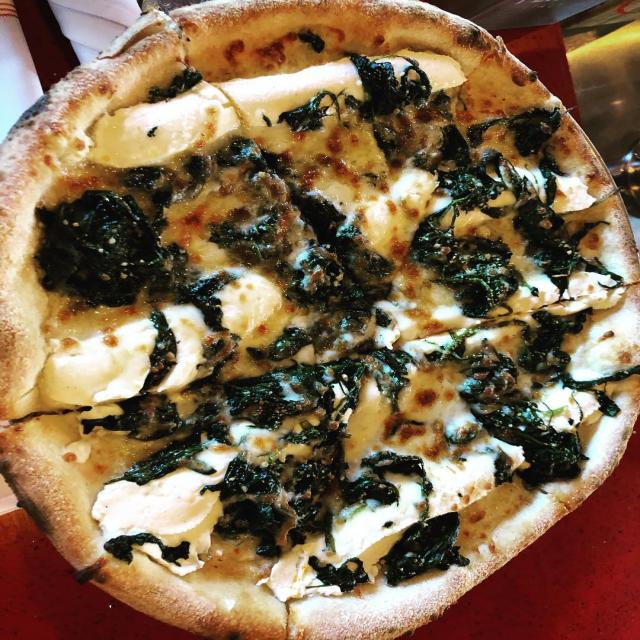basil: (31, 188, 236, 332), (452, 351, 588, 494), (279, 177, 396, 326), (210, 450, 339, 560), (513, 307, 638, 412), (414, 213, 533, 320), (415, 117, 532, 208), (222, 371, 374, 440), (337, 49, 456, 127), (74, 393, 235, 446), (101, 148, 224, 204), (378, 512, 472, 584), (192, 204, 294, 266), (300, 340, 411, 390), (346, 446, 434, 505), (498, 90, 564, 167), (113, 440, 220, 484), (213, 134, 292, 188), (106, 526, 191, 574), (498, 106, 566, 164), (305, 550, 369, 600), (268, 90, 342, 132), (142, 60, 202, 108), (418, 326, 469, 366), (263, 324, 302, 357), (292, 29, 330, 58)
pizza: (1, 0, 638, 640)
